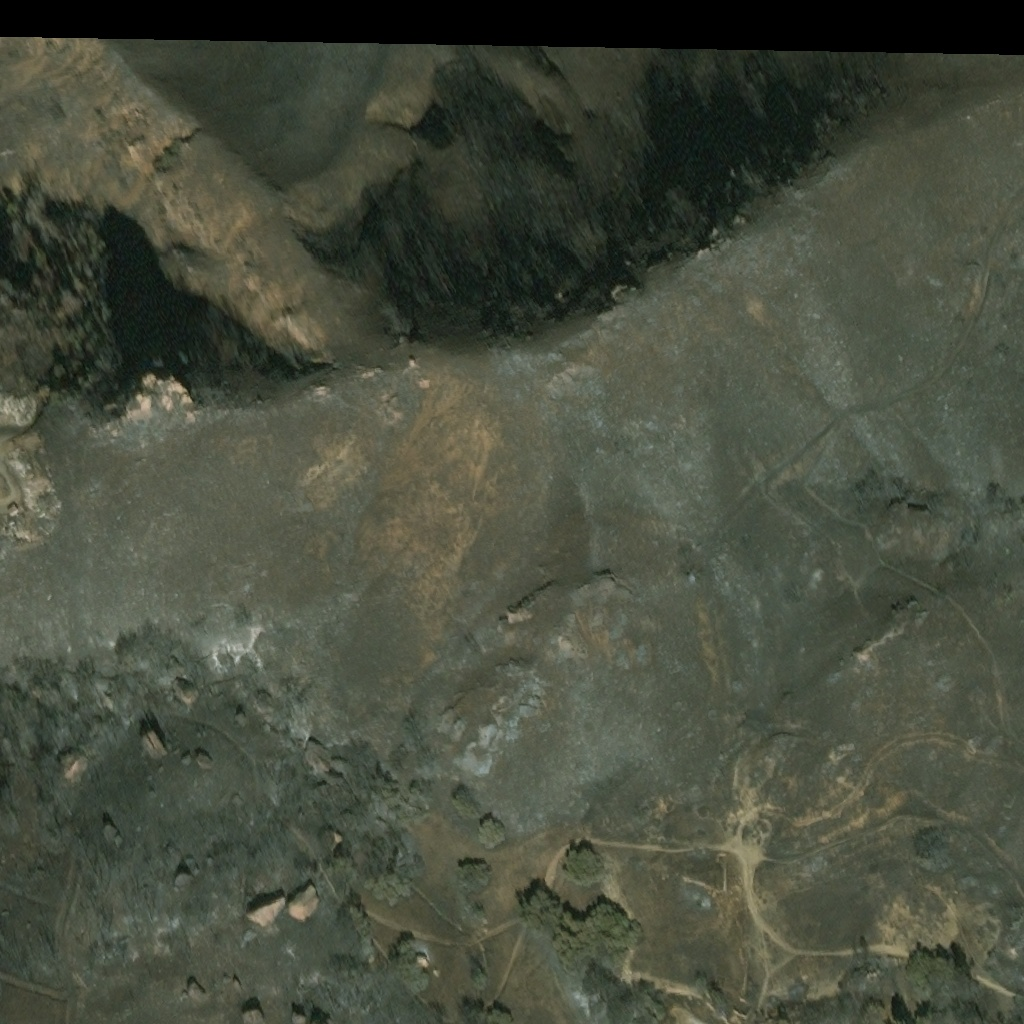3 destroyed: (0, 503, 27, 542), (1, 383, 31, 414), (0, 385, 9, 402)
